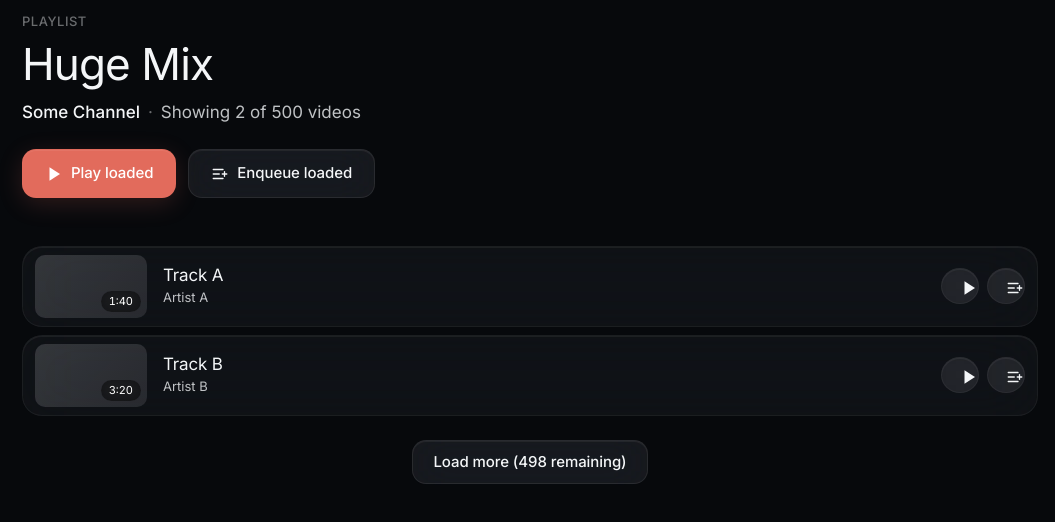
Test: Playlist page — truncation + Load more (#19) › Load more fetches the next window with start=items.length+1 and appends items
Expected: the text "Track B" is shown, [163, 354, 223, 374]
Click the button "Load more (498 remaining)".
click(530, 462)  # box [412, 440, 648, 484]
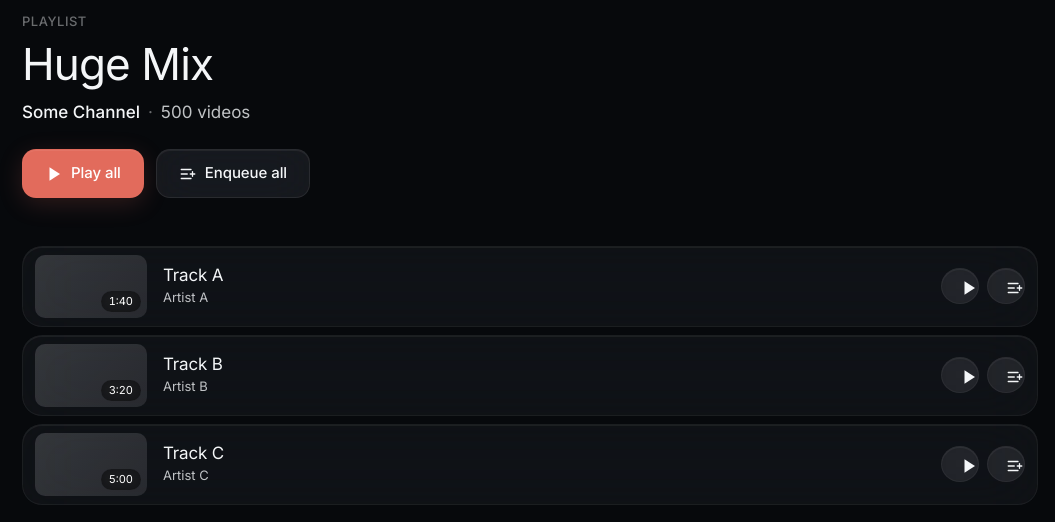
Expected: the text "Track A" is shown, [163, 265, 223, 285]
Expected: the text "Track C" is shown, [163, 443, 224, 463]
Expected: the button "Load more" is gone
